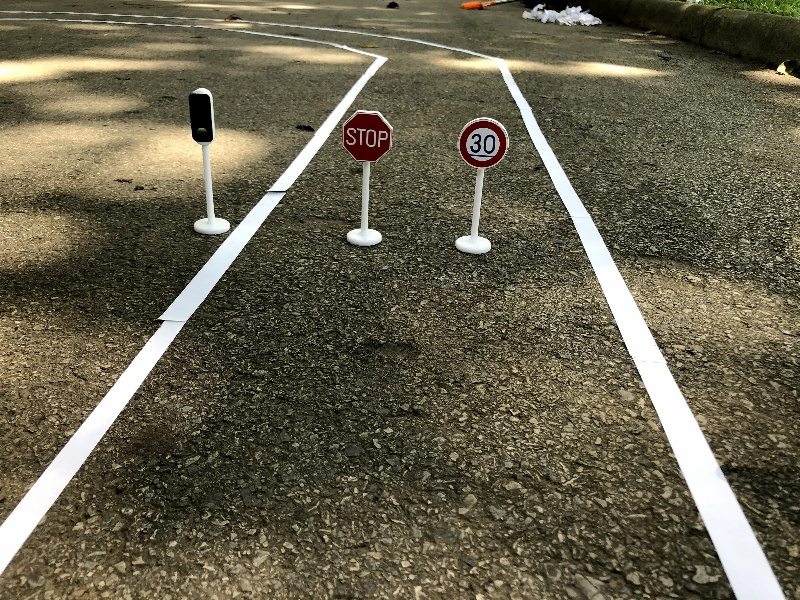Green: (185, 86, 234, 238)
Limit 30: (451, 114, 512, 256)
Stop: (337, 106, 396, 251)
